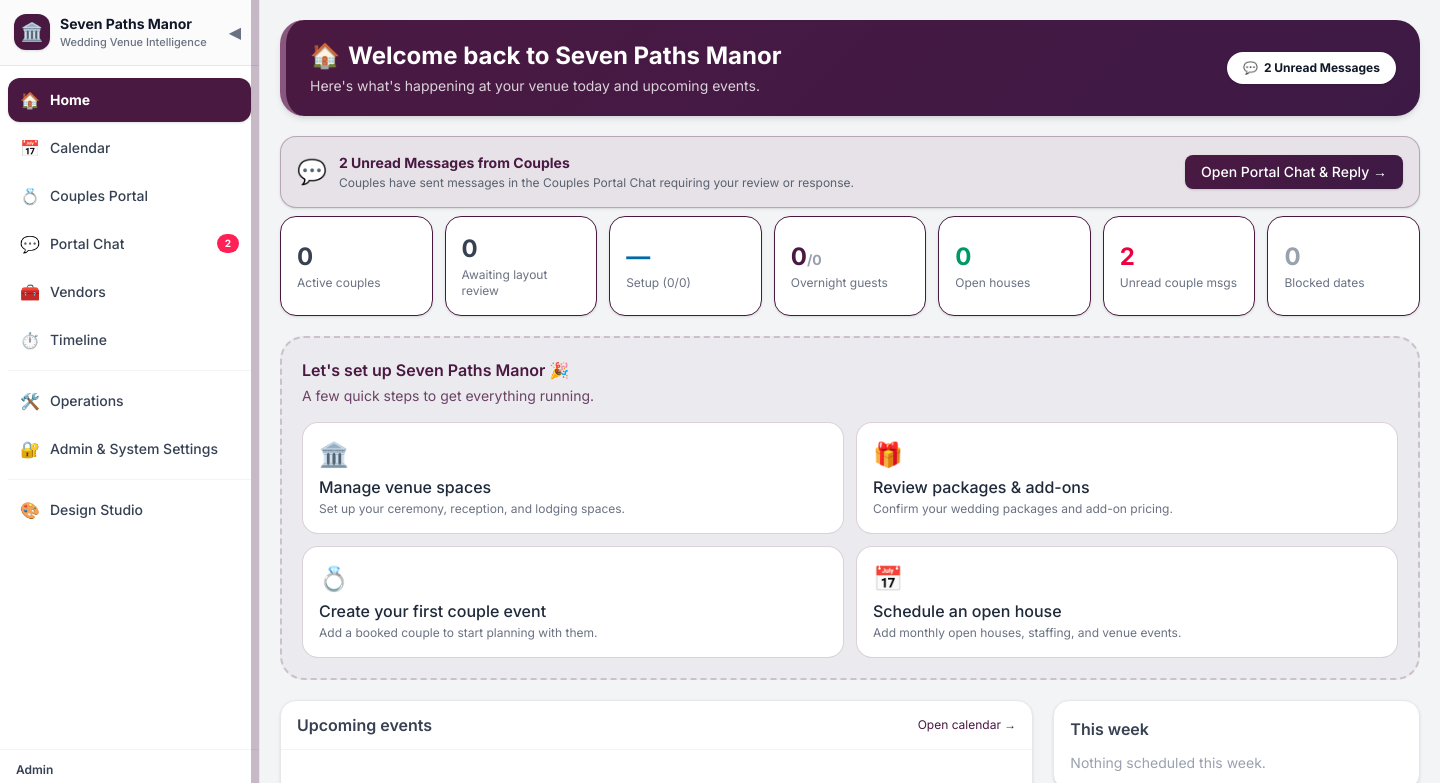
Test: VenueDashboard › renders Unread Couple Messages alert banner and allows clicking KPI card to switch to chat section
The width and height of the screenshot is (1440, 783).
Expected: the text "2 Unread Messages from Couples" is shown, [339,154,570,171]
Click the button with aria-label "2 unread couple messages" at {"x": 1179, "y": 266}, box [1103,216,1255,316]
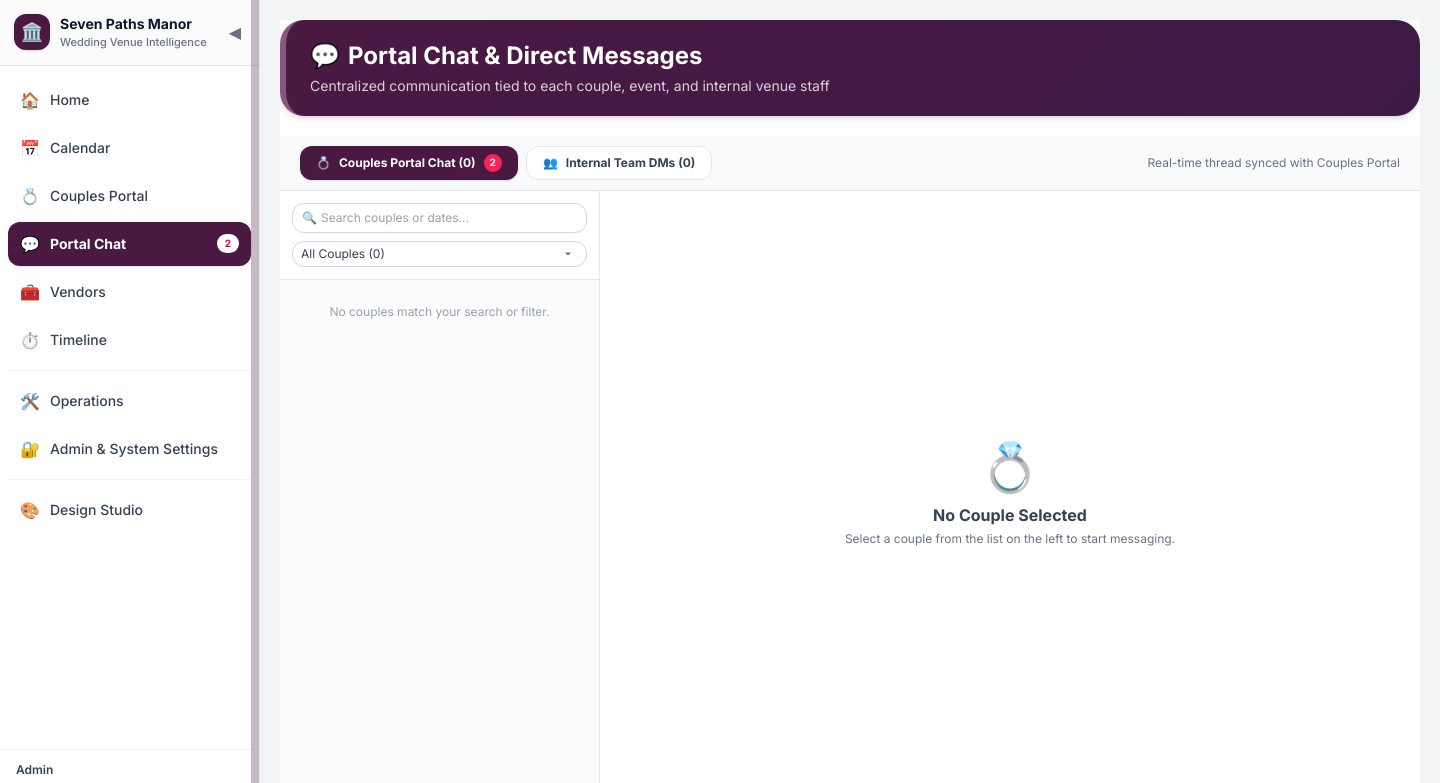
Expected: the heading "💬 Portal Chat & Direct Messages" is shown, [310,41,702,70]
